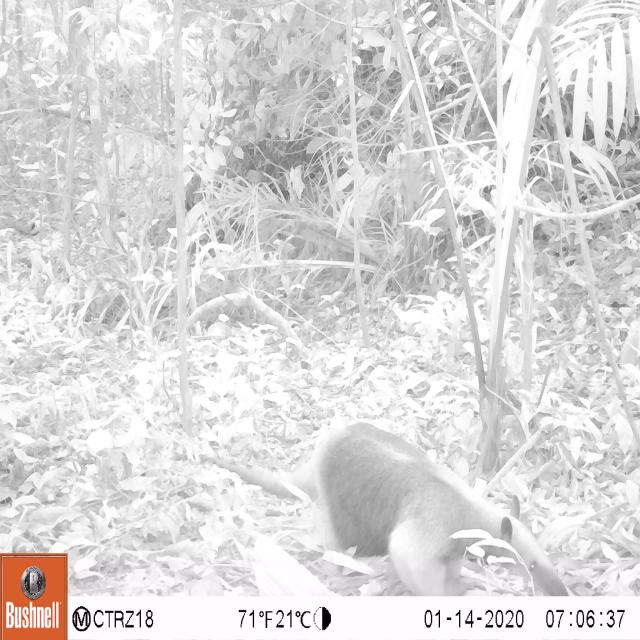Southern Tamandua: (203, 412, 575, 601)
